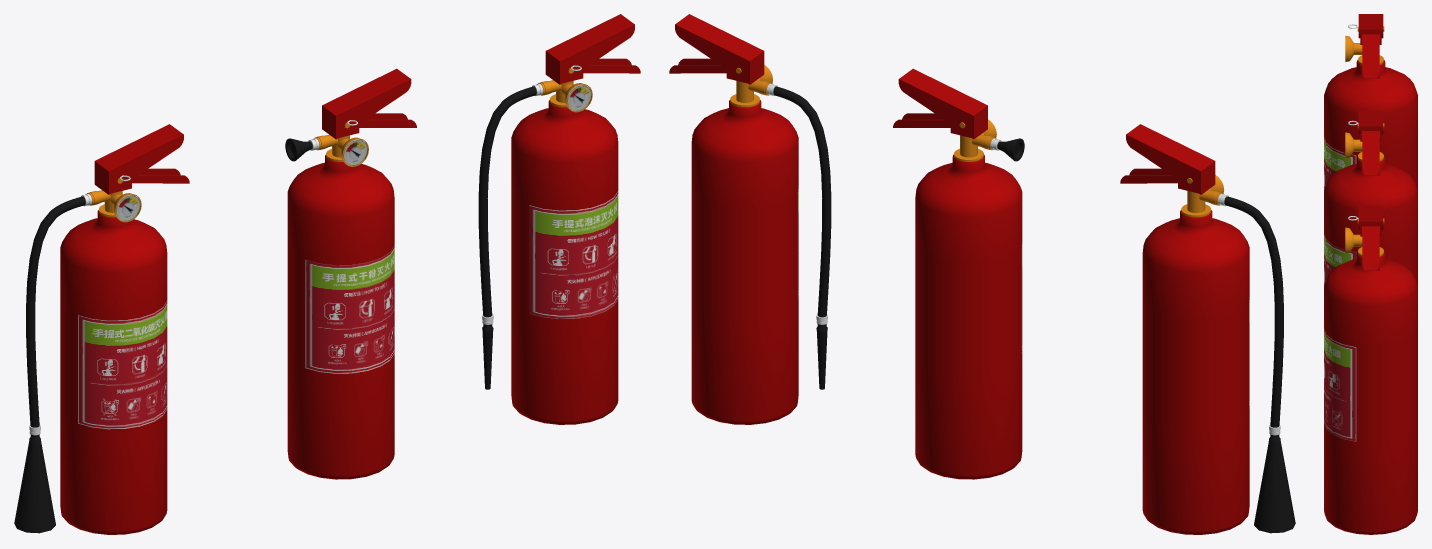
The model's file is MHQ_.FBX.
3 renders of one model, left to right at view 1: azimuth 30°, elevation 25°; view 2: azimuth 150°, elevation 25°; view 3: azimuth 270°, elevation 25°, orthographic. The views are drawn at different scales.
Parts seen in each view (by area): view 1: MHQ_GF1, MHQ_PM1, MHQ_CO21, MHQ_PM2, MHQ_CO22, MHQ_GF2, MHQ_CO24, MHQ_CO25, MHQ_PM5; view 2: MHQ_GF1, MHQ_PM1, MHQ_CO21, MHQ_PM2, MHQ_CO22, MHQ_GF2, MHQ_CO24, MHQ_CO25, MHQ_PM5; view 3: MHQ_PM1, MHQ_CO21, MHQ_GF1, MHQ_PM2, MHQ_GF2, MHQ_CO22.
Boxes of the visible parts, box(x1,y1,x2,y2) form: MHQ_GF1: box(285, 113, 416, 479); MHQ_PM1: box(511, 58, 640, 424); MHQ_CO21: box(60, 168, 189, 534); MHQ_PM2: box(545, 14, 634, 84); MHQ_CO22: box(94, 124, 183, 194); MHQ_GF2: box(322, 68, 411, 139); MHQ_CO24: box(14, 424, 55, 533); MHQ_CO25: box(26, 196, 85, 427); MHQ_PM5: box(478, 86, 536, 317); MHQ_GF1: box(893, 113, 1024, 479); MHQ_PM1: box(669, 58, 798, 424); MHQ_CO21: box(1120, 168, 1249, 534); MHQ_PM2: box(675, 14, 764, 84); MHQ_CO22: box(1126, 124, 1215, 194); MHQ_GF2: box(898, 68, 987, 139); MHQ_CO24: box(1254, 424, 1295, 533); MHQ_CO25: box(1224, 196, 1283, 427); MHQ_PM5: box(773, 86, 831, 317); MHQ_PM1: box(1324, 218, 1417, 534); MHQ_CO21: box(1324, 26, 1417, 190); MHQ_GF1: box(1324, 123, 1417, 285); MHQ_PM2: box(1358, 205, 1383, 229); MHQ_GF2: box(1358, 110, 1383, 134); MHQ_CO22: box(1358, 14, 1383, 38).
Bounding box in the file's own units: 1514 × 864 × 228.
Materials: 8 (4 with a texture image).
